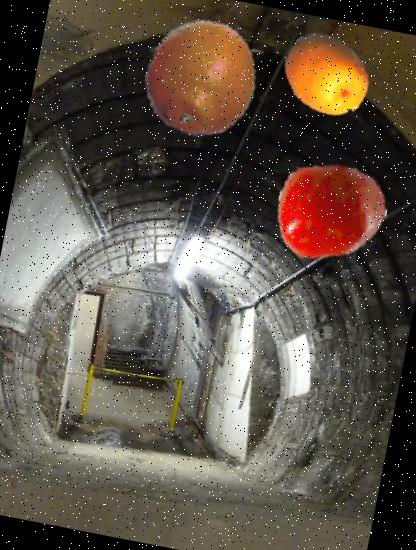Kumquats: (272, 21, 380, 128)
Tangelo: (128, 6, 269, 147)
Tomato: (266, 149, 395, 278)
